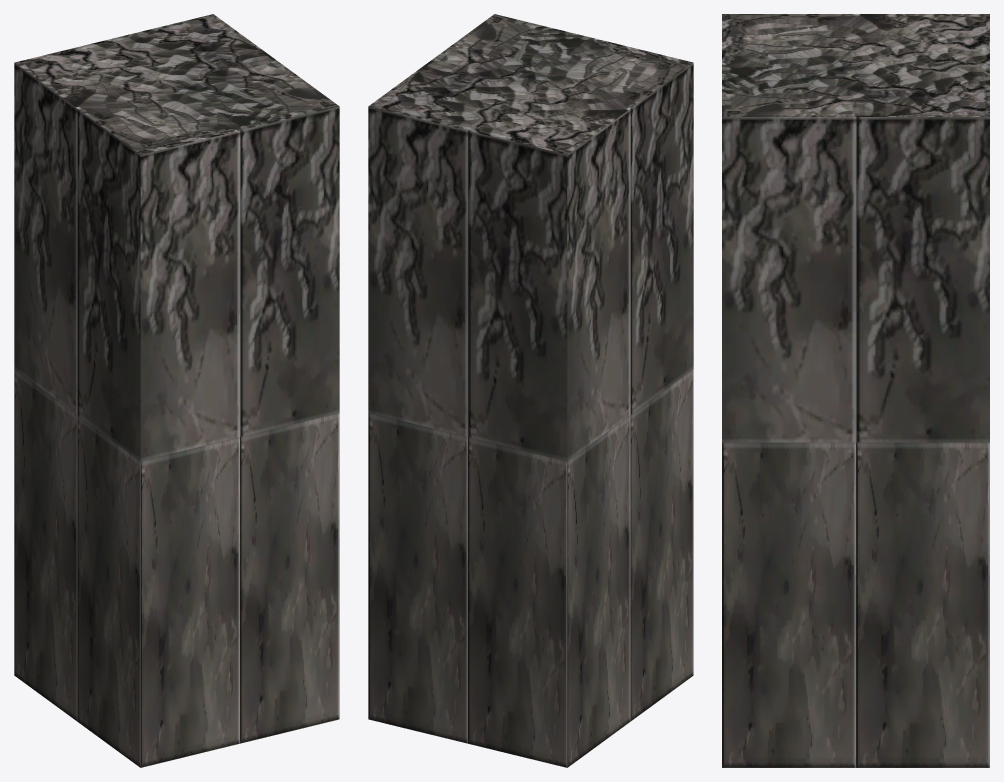
The model's file is INST_SM_DEBRIS_BLOCK_SMALLB.fbx.
3 views of the same model, side by side, from view 1: azimuth 30°, elevation 25°; view 2: azimuth 150°, elevation 25°; view 3: azimuth 270°, elevation 25° (orthographic). The views are drawn at different scales.
Parts seen in each view (by area): view 1: INST_SM_DEBRIS_BLOCK_SMALLB; view 2: INST_SM_DEBRIS_BLOCK_SMALLB; view 3: INST_SM_DEBRIS_BLOCK_SMALLB.
Boxes of the visible parts, x1,y1,x2,y2 form: INST_SM_DEBRIS_BLOCK_SMALLB: [14, 14, 339, 767]; INST_SM_DEBRIS_BLOCK_SMALLB: [368, 14, 693, 767]; INST_SM_DEBRIS_BLOCK_SMALLB: [722, 14, 989, 767].
Size of the model in its own units: 10020 by 29507 by 11004.
3 materials, 3 textured.
